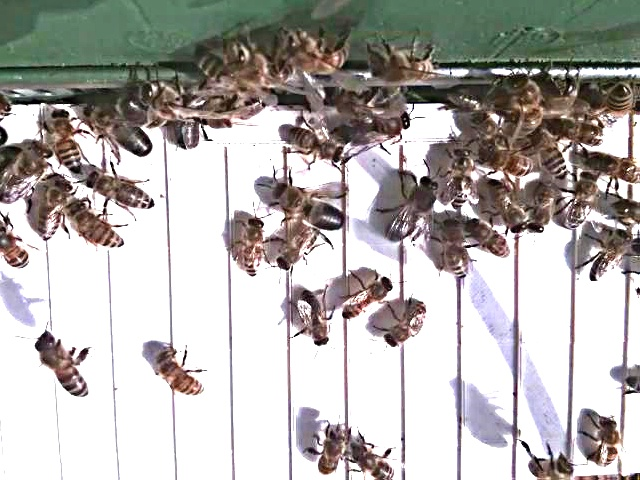Drone: (82, 98, 158, 163), (273, 179, 353, 235), (385, 173, 444, 248), (0, 140, 54, 208), (334, 109, 414, 151)
Worker: (36, 328, 94, 402), (83, 170, 160, 215), (584, 226, 632, 288), (154, 348, 208, 401), (72, 204, 128, 253), (486, 178, 530, 238), (45, 107, 82, 178), (564, 169, 604, 234), (38, 178, 77, 244), (382, 300, 431, 352), (442, 146, 478, 215), (342, 276, 395, 322), (287, 127, 347, 167), (298, 288, 334, 352), (314, 422, 353, 480), (590, 414, 628, 473), (469, 219, 514, 265), (350, 440, 401, 480), (526, 178, 558, 240), (442, 220, 472, 285), (239, 216, 268, 282), (0, 216, 32, 275)
